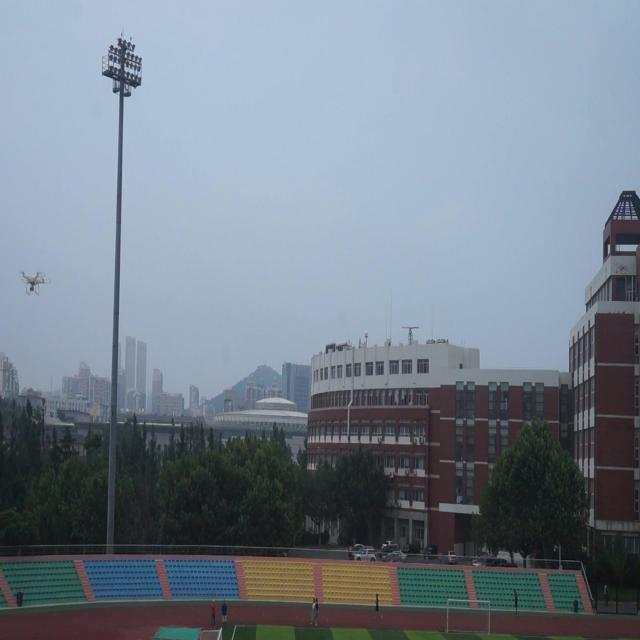UAV: (20, 270, 51, 296)
